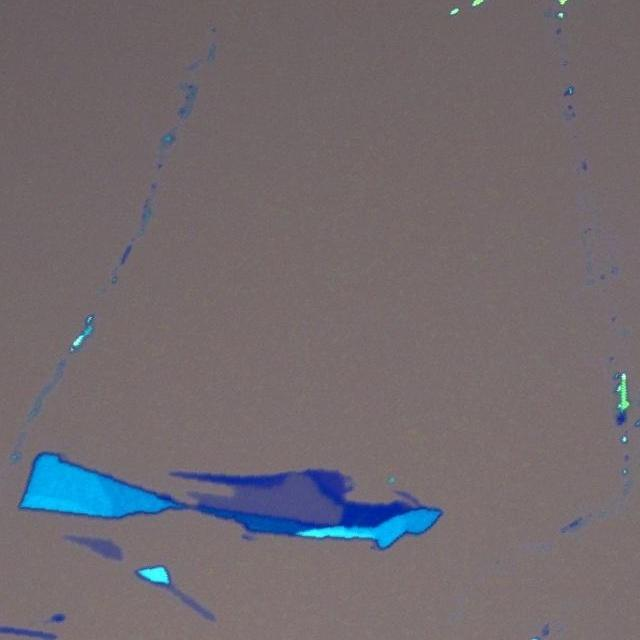monolayer-eWW4: (185, 476, 342, 526), (168, 583, 219, 640), (60, 533, 124, 563)
